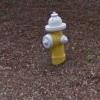Hydrant: (37, 7, 77, 68)
